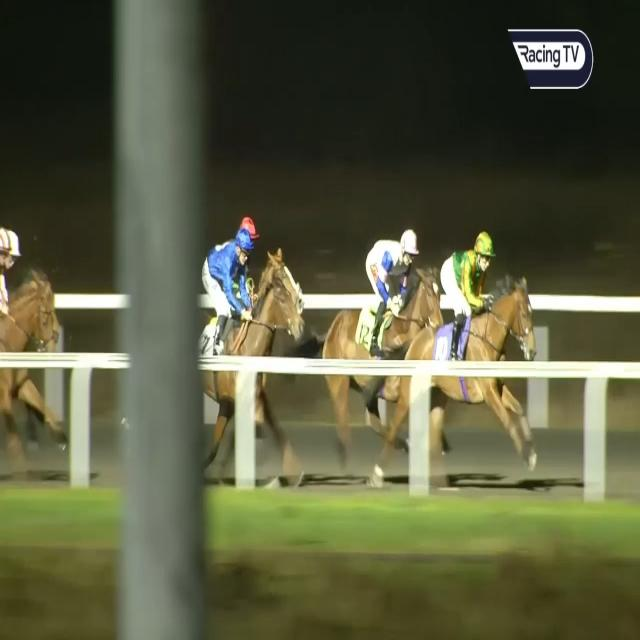horses-racing: (412, 233, 535, 488), (324, 230, 442, 403), (199, 232, 290, 448), (0, 230, 48, 452), (232, 202, 302, 339), (6, 229, 27, 272)
